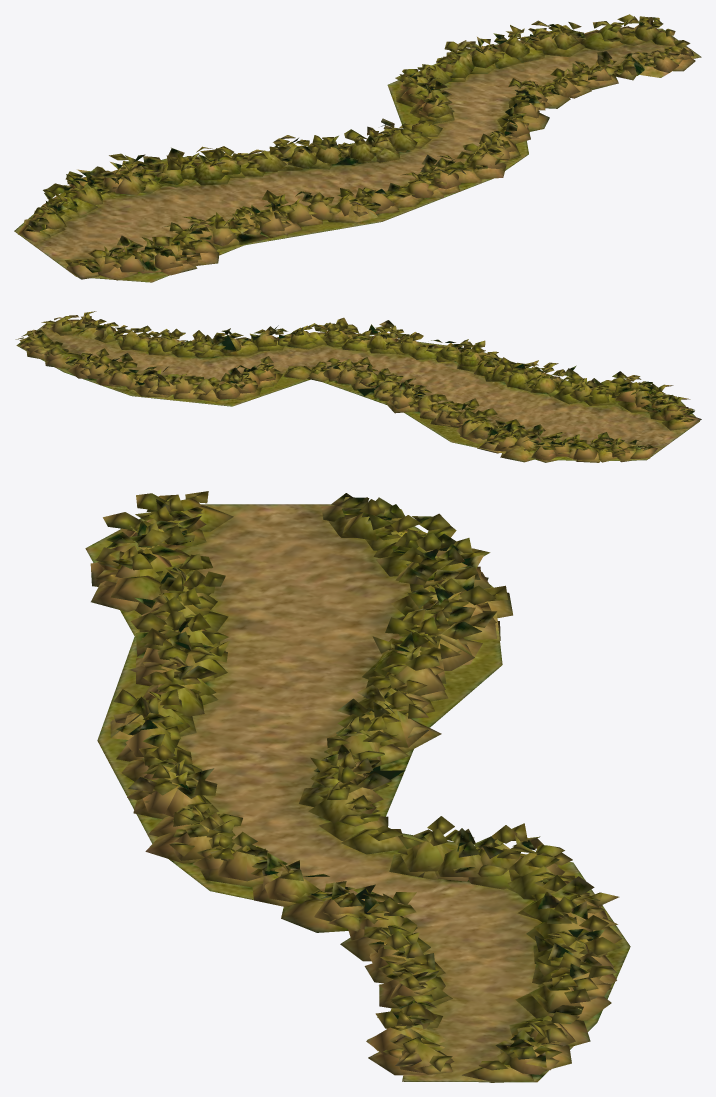
The model's file is path-module.glb.
The picture shows the model from 3 angles, top to bottom: view 1: azimuth 30°, elevation 25°; view 2: azimuth 150°, elevation 25°; view 3: azimuth 270°, elevation 25°; orthographic projection. The views are drawn at different scales.
Bounding box in the file's own units: 1 × 0.0358 × 0.3995.
1 material, 1 textured.
